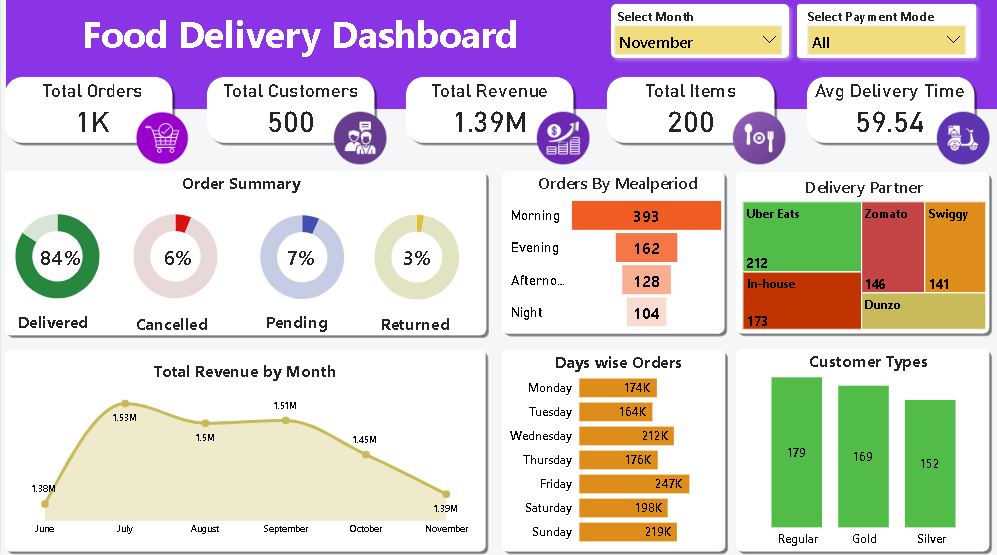

Layout of this report page (visuals, bound fields, positions):
{"tool":"powerbi","page":{"name":"Page 1","canvas":[1306,731],"ordinal":0},"visuals":[{"type":"shape","box":[7.2,0,1299.4,146.8],"z":0},{"type":"shape","box":[0,99.2,229.6,96.4],"z":1000},{"type":"shape","box":[265,99.2,229.6,96.4],"z":2000},{"type":"shape","box":[525.8,99.2,229.6,96.4],"z":3000},{"type":"shape","box":[788,99.2,229.6,96.4],"z":4000},{"type":"shape","box":[1050.2,99.2,229.6,96.4],"z":5000},{"type":"shape","box":[0,222.5,640.6,225.4],"z":6000},{"type":"shape","box":[0,457.1,640,274.3],"z":7000},{"type":"shape","box":[651.7,223.3,301.7,223.3],"z":8000},{"type":"shape","box":[958,224.6,342,221.7],"z":9000},{"type":"shape","box":[958,456.5,342,275.4],"z":10000},{"type":"shape","box":[651.4,457.1,302.9,274.3],"z":11000},{"type":"card","title":"Total Orders","fields":{"Values":["1_measure.Total_Order"]},"box":[10.1,108.7,218.8,76.8],"z":12000},{"type":"card","title":"Total Customers","fields":{"Values":["1_measure.Total Customers"]},"box":[265,109.1,229.6,76.5],"z":13000},{"type":"card","title":"Total Revenue","fields":{"Values":["1_measure.Total Revenue"]},"box":[525.8,109.1,229.6,76.5],"z":14000},{"type":"card","title":"Total Items","fields":{"Values":["1_measure.Total Menu"]},"box":[788,109.1,229.6,76.5],"z":15000},{"type":"card","title":"Avg Delivery Time","fields":{"Values":["1_measure.Avg Delivery Time"]},"box":[1055.9,109.1,216.9,76.5],"z":16000},{"type":"image","box":[697.3,136.1,79.4,96.4],"z":17000},{"type":"image","box":[171.5,136,79.4,96.4],"z":18000},{"type":"image","box":[953.9,136.1,79.4,96.4],"z":19000},{"type":"image","box":[1220.3,136.1,79.4,97.8],"z":20000},{"type":"image","box":[430.9,136.1,79.4,97],"z":21000},{"type":"donutChart","fields":{"Y":["1_measure.Delivered","1_measure.other_deliver"]},"box":[0,233.3,147.8,213],"z":22000},{"type":"donutChart","fields":{"Y":["1_measure.Cancelled","1_measure.other_cancel"]},"box":[155.1,233.3,147.8,213],"z":23000},{"type":"donutChart","fields":{"Y":["1_measure.Pending","1_measure.other_pending"]},"box":[320.3,233.9,147.4,212.6],"z":24000},{"type":"donutChart","fields":{"Y":["1_measure.Returend","1_measure.other_returned"]},"box":[470.6,233.9,148.8,212.6],"z":25000},{"type":"textbox","box":[17,405.4,113.4,41.1],"z":26000},{"type":"textbox","box":[171.5,406.8,116.2,41.1],"z":27000},{"type":"textbox","box":[341.6,405.4,104.9,39.7],"z":28000},{"type":"textbox","box":[493.2,406.8,126.1,41.1],"z":29000},{"type":"textbox","box":[0,223.2,629,56.5],"z":30000},{"type":"cardVisual","fields":{"Data":["1_measure.Deliver%"]},"box":[34,279.2,137.5,112],"z":31000},{"type":"cardVisual","fields":{"Data":["1_measure.Cancel%"]},"box":[196.1,279.6,137,112],"z":32000},{"type":"cardVisual","fields":{"Data":["1_measure.pending%"]},"box":[357.2,279,137.5,113.4],"z":33000},{"type":"cardVisual","fields":{"Data":["1_measure.return%"]},"box":[510.2,279.6,138,112.6],"z":34000},{"type":"lineChart","fields":{"Y":["1_measure.Total Revenue"],"Category":["Orders.Order_Date.Variation.Date Hierarchy.Month"]},"box":[10,474.3,620,240],"z":35000},{"type":"funnel","title":"Orders By Mealperiod","fields":{"Category":["Orders.mealperod"],"Y":["1_measure.Total_Order"]},"box":[663.3,228.2,290.6,212.6],"z":36000},{"type":"treemap","title":"Delivery Partner","fields":{"Values":["1_measure.Total_Order"],"Group":["Orders.Delivery_Partner"]},"box":[967,233.1,328.1,207.2],"z":37000},{"type":"clusteredBarChart","title":"Days wise Orders","fields":{"Category":["Orders.Day Name"],"Y":["1_measure.Total Revenue"]},"box":[657.1,474.3,291.4,257.1],"z":38000},{"type":"shape","box":[1033.2,0,253.3,89.2],"z":39000},{"type":"slicer","fields":{"Values":["Orders.Payment_Mode"]},"box":[1046.1,27.3,227.4,73.4],"z":40000},{"type":"shape","box":[790,0,251.8,89.2],"z":41000},{"type":"slicer","title":"Month","fields":{"Values":["Orders.Month Name"]},"box":[794.3,27.3,238.9,61.9],"z":42000},{"type":"textbox","box":[7.2,8.6,769.9,107.9],"z":43000},{"type":"textbox","box":[802.9,8.6,225.9,36],"z":44000},{"type":"textbox","box":[658.6,457.1,300,84.3],"z":45000},{"type":"clusteredColumnChart","title":"Types of Customers","fields":{"Category":["Customers.Customer_Type"],"Y":["CountNonNull(Customers.Customer_Type)"]},"box":[969.6,456.5,324.6,273.9],"z":46000},{"type":"textbox","box":[987,456.5,300,84.1],"z":47000},{"type":"textbox","box":[1051.9,8.6,225.9,36],"z":47001}]}

Visuals, with their boxes in screenshot pixels (x1, y1, x2, y2), scaled from the page's 1306x731 canvas onto the 997x555 screenshot:
shape: region(5, 0, 996, 111)
shape: region(0, 75, 175, 149)
shape: region(202, 75, 378, 149)
shape: region(401, 75, 577, 149)
shape: region(602, 75, 777, 149)
shape: region(802, 75, 977, 149)
shape: region(0, 169, 489, 340)
shape: region(0, 347, 489, 554)
shape: region(498, 170, 728, 339)
shape: region(731, 171, 992, 339)
shape: region(731, 347, 992, 554)
shape: region(497, 347, 729, 554)
"Total Orders" card: region(8, 83, 175, 141)
"Total Customers" card: region(202, 83, 378, 141)
"Total Revenue" card: region(401, 83, 577, 141)
"Total Items" card: region(602, 83, 777, 141)
"Avg Delivery Time" card: region(806, 83, 972, 141)
image: region(532, 103, 593, 177)
image: region(131, 103, 192, 176)
image: region(728, 103, 789, 177)
image: region(932, 103, 992, 178)
image: region(329, 103, 390, 177)
donutChart - 1_measure.Delivered x 1_measure.other_deliver: region(0, 177, 113, 339)
donutChart - 1_measure.Cancelled x 1_measure.other_cancel: region(118, 177, 231, 339)
donutChart - 1_measure.Pending x 1_measure.other_pending: region(245, 178, 357, 339)
donutChart - 1_measure.Returend x 1_measure.other_returned: region(359, 178, 473, 339)
textbox: region(13, 308, 100, 339)
textbox: region(131, 309, 220, 340)
textbox: region(261, 308, 341, 338)
textbox: region(377, 309, 473, 340)
textbox: region(0, 169, 480, 212)
cardVisual - 1_measure.Deliver%: region(26, 212, 131, 297)
cardVisual - 1_measure.Cancel%: region(150, 212, 254, 297)
cardVisual - 1_measure.pending%: region(273, 212, 378, 298)
cardVisual - 1_measure.return%: region(389, 212, 495, 298)
lineChart - 1_measure.Total Revenue x Orders.Order_Date.Variation.Date Hierarchy.Month: region(8, 360, 481, 542)
"Orders By Mealperiod" funnel: region(506, 173, 728, 335)
"Delivery Partner" treemap: region(738, 177, 989, 334)
"Days wise Orders" clusteredBarChart: region(502, 360, 724, 554)
shape: region(789, 0, 982, 68)
slicer - Orders.Payment_Mode: region(799, 21, 972, 76)
shape: region(603, 0, 795, 68)
"Month" slicer: region(606, 21, 789, 68)
textbox: region(5, 7, 593, 88)
textbox: region(613, 7, 785, 34)
textbox: region(503, 347, 732, 411)
"Types of Customers" clusteredColumnChart: region(740, 347, 988, 554)
textbox: region(753, 347, 982, 410)
textbox: region(803, 7, 975, 34)
